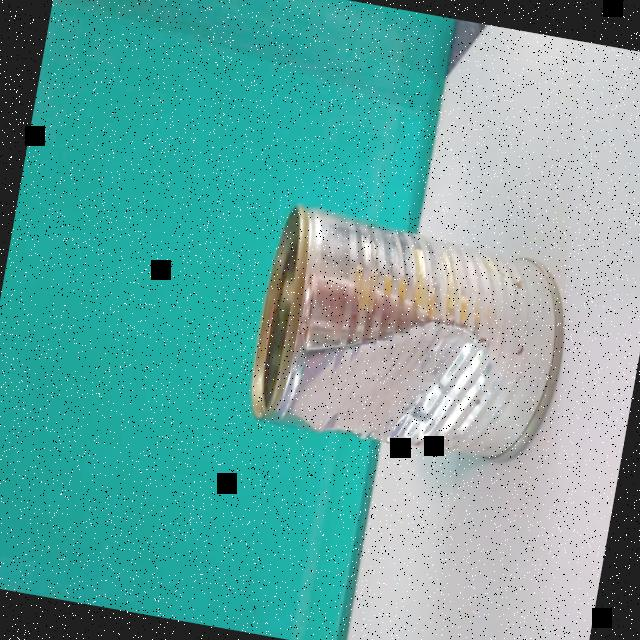can: (238, 199, 582, 477)
